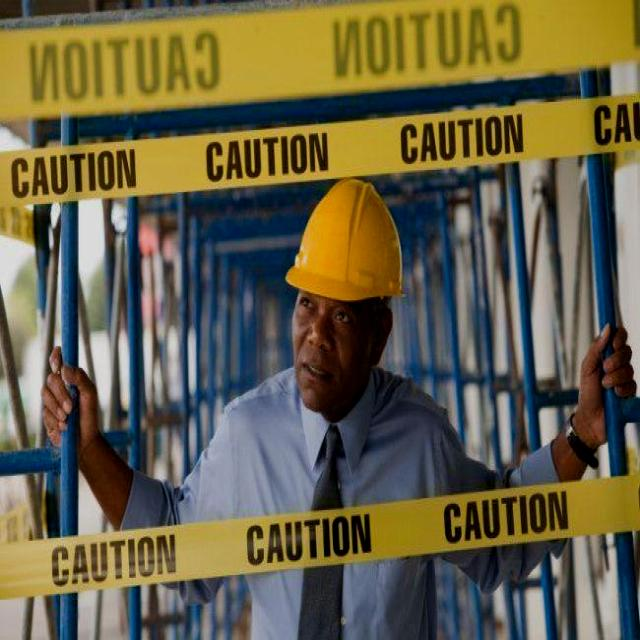face_nomask: (284, 291, 387, 414)
hand_noglove: (38, 351, 114, 468), (569, 322, 635, 450)
head_helmet: (280, 180, 405, 300)
person: (254, 173, 444, 640)
